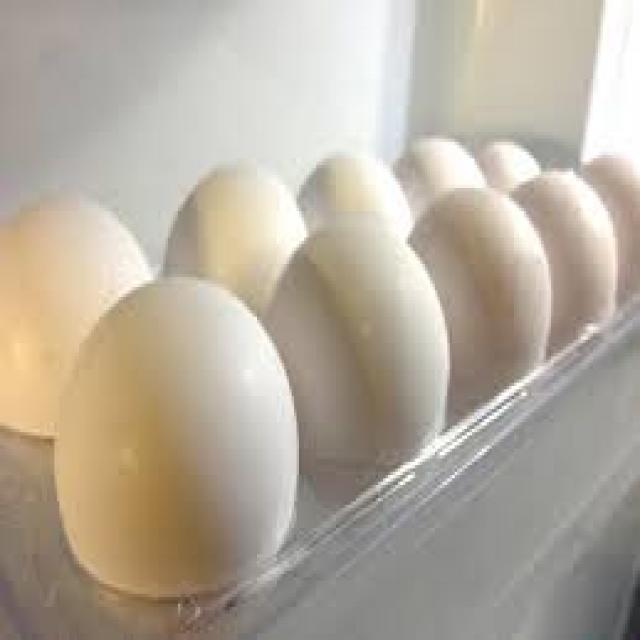organic waste: (52, 270, 299, 600), (272, 221, 447, 478), (0, 194, 158, 438), (410, 188, 549, 399), (156, 155, 311, 300), (296, 148, 412, 287), (521, 162, 618, 323), (393, 128, 487, 238), (586, 152, 638, 294), (474, 139, 536, 211)
